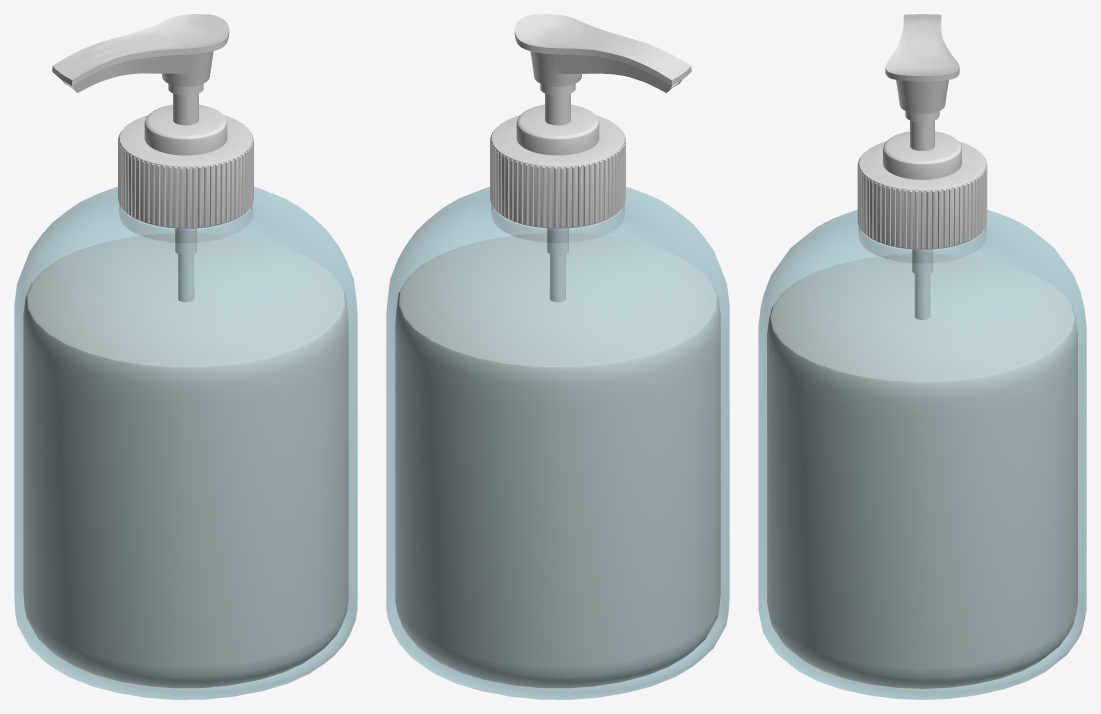
The model's file is HandSanitizer.fbx.
The picture shows the model from 3 angles, left to right: view 1: azimuth 30°, elevation 25°; view 2: azimuth 150°, elevation 25°; view 3: azimuth 270°, elevation 25°; orthographic projection. The views are drawn at different scales.
Parts seen in each view (by area): view 1: Cylinder, Cylinder.002; view 2: Cylinder, Cylinder.002; view 3: Cylinder, Cylinder.002.
Boxes of the visible parts, x1,y1,x2,y2 form: Cylinder: (14,14,357,699); Cylinder.002: (23,233,348,688); Cylinder: (386,14,729,699); Cylinder.002: (395,233,720,688); Cylinder: (758,14,1086,699); Cylinder.002: (767,254,1077,688).
Size of the model in its own units: 241 by 473 by 241.
